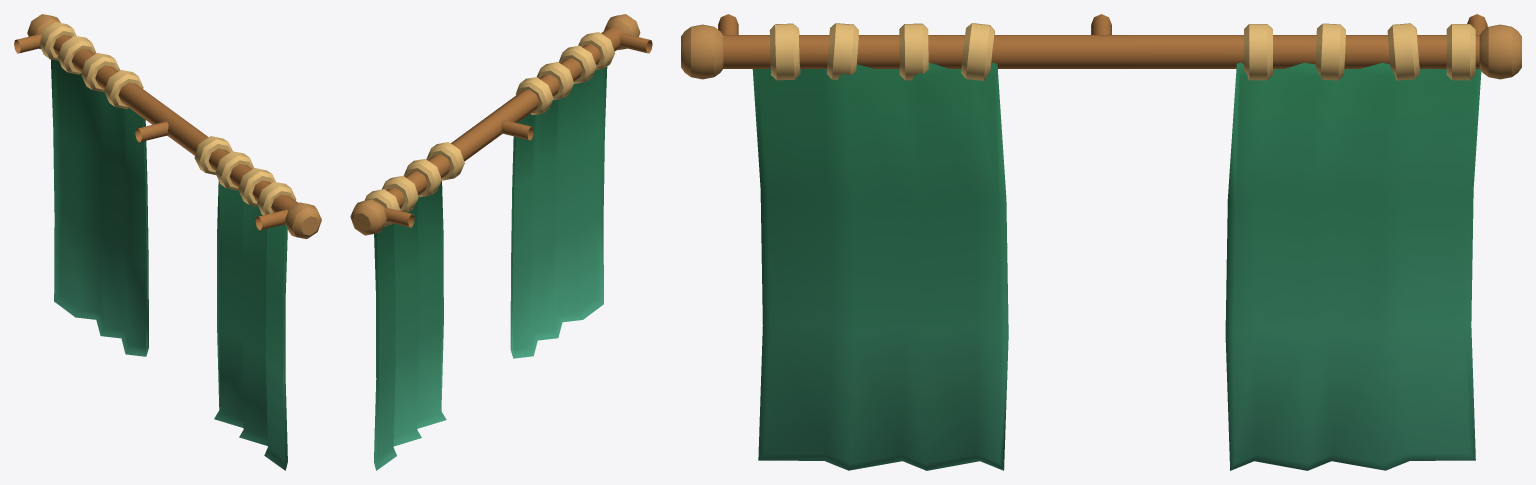
File: Curtains_Long_2_C_F.glb
3 views of the same model, side by side, from view 1: azimuth 30°, elevation 25°; view 2: azimuth 150°, elevation 25°; view 3: azimuth 270°, elevation 25° (orthographic). The views are drawn at different scales.
Visible parts, largest first — view 1: Curtains_Long_2_C_F; view 2: Curtains_Long_2_C_F; view 3: Curtains_Long_2_C_F.
Boxes of the visible parts, left/top/right/bottom form: Curtains_Long_2_C_F: left=14, top=14, right=321, bottom=470; Curtains_Long_2_C_F: left=350, top=14, right=652, bottom=470; Curtains_Long_2_C_F: left=681, top=14, right=1521, bottom=470.
Bounding box in the file's own units: 0.2288 × 1.16 × 2.02.
Materials: 1 (1 with a texture image).
